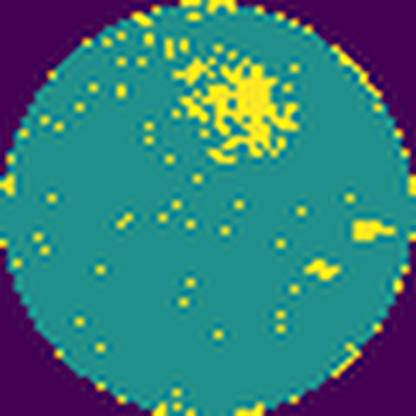Loc: (178, 51, 307, 168), (348, 221, 397, 243)
